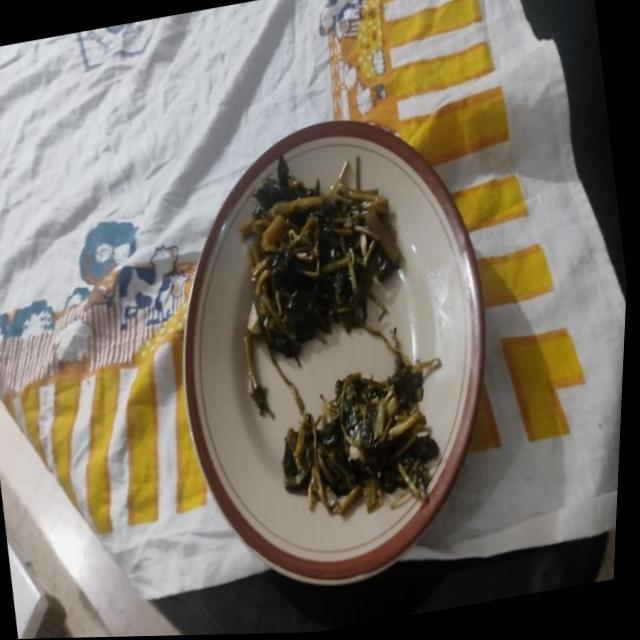tumis_kangkung: (240, 162, 400, 368), (282, 328, 440, 515)
